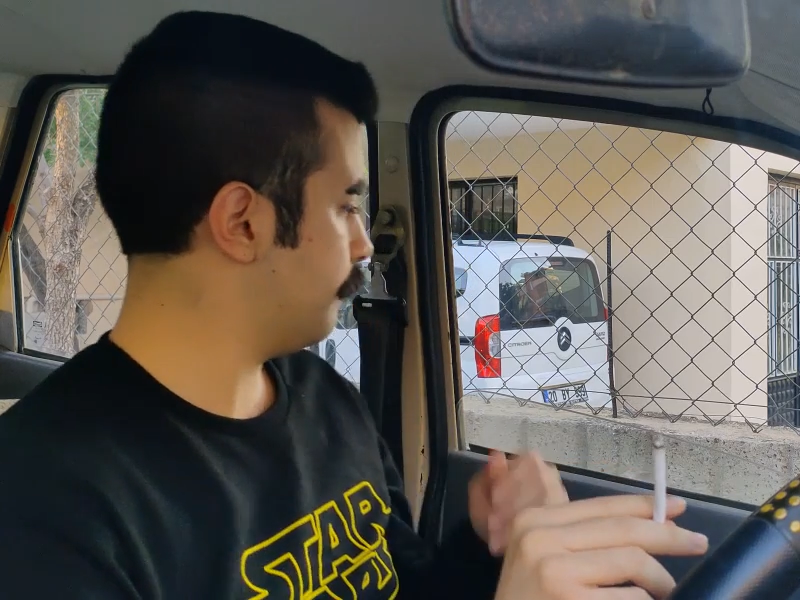sigara: (645, 427, 671, 529)
